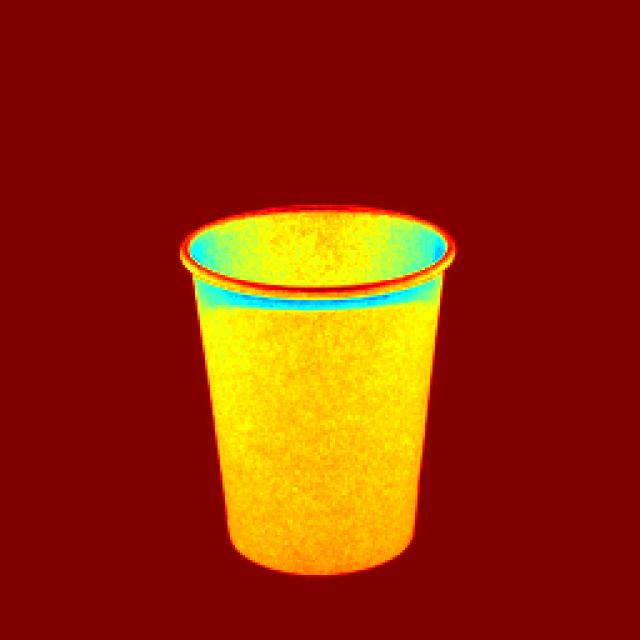Paper Cups: (173, 180, 472, 602)
